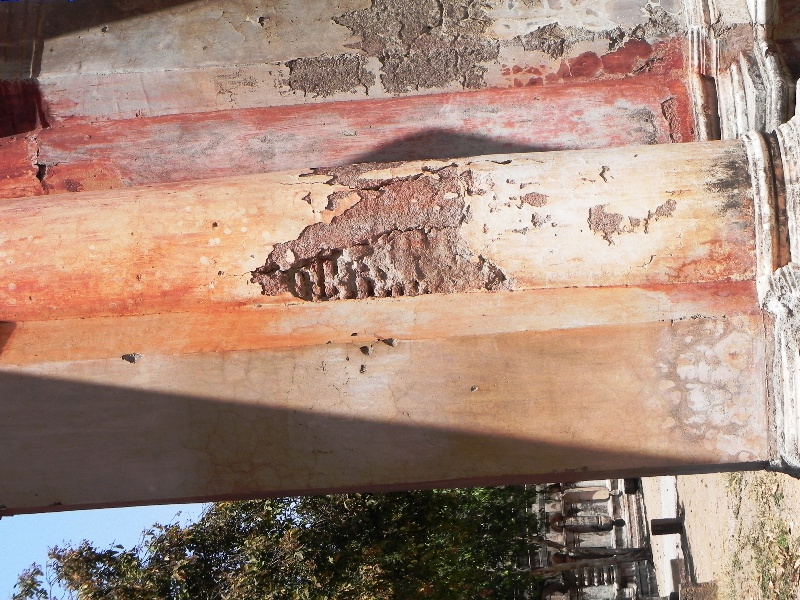Exposed Bricks: (288, 250, 402, 299)
Spalling: (274, 1, 511, 105), (297, 162, 495, 236), (512, 2, 681, 71), (581, 194, 678, 245)
